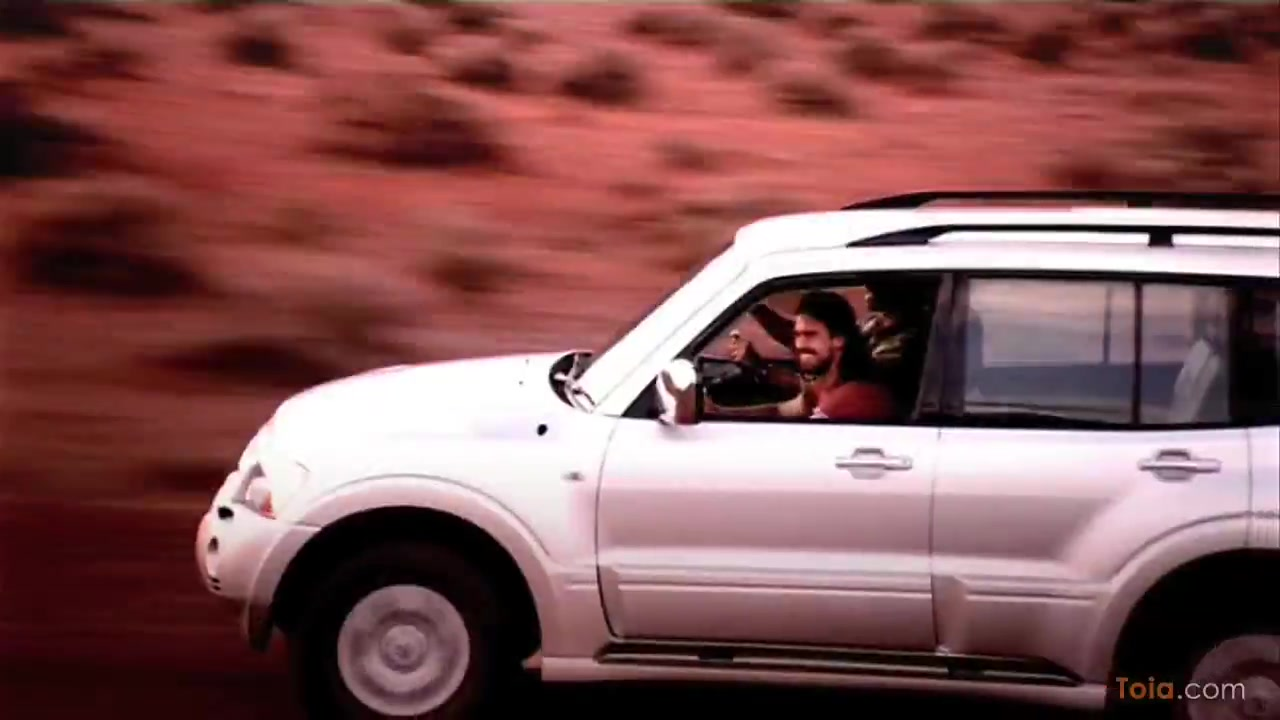car: (195, 198, 1280, 720)
